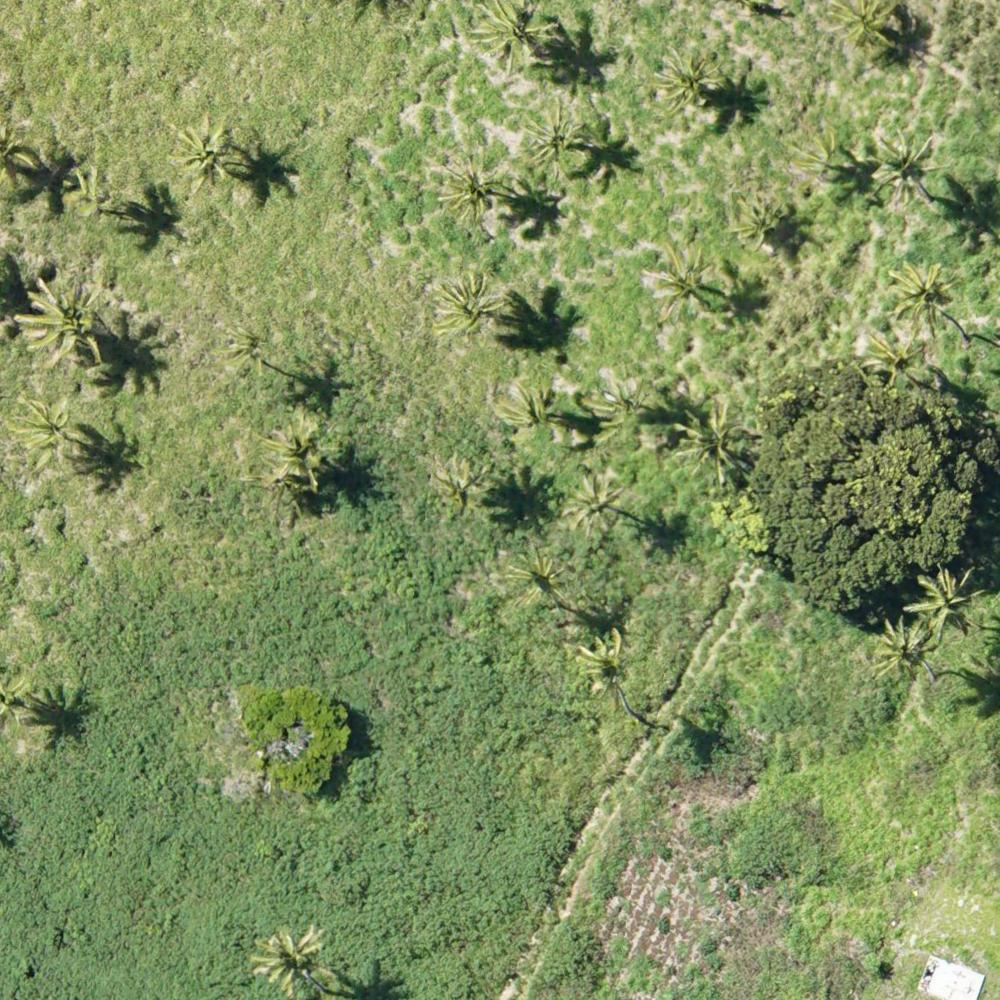Palm: (18, 274, 107, 371), (675, 397, 753, 481), (473, 1, 556, 74), (647, 242, 719, 325), (14, 397, 93, 471), (870, 128, 942, 202), (437, 150, 506, 227), (905, 565, 981, 634), (253, 922, 324, 994), (521, 97, 588, 173), (491, 380, 567, 447), (434, 269, 505, 338), (649, 46, 718, 115), (888, 259, 955, 328), (175, 116, 235, 190), (502, 549, 572, 611), (874, 616, 939, 682), (828, 2, 902, 59), (575, 628, 636, 697), (562, 473, 627, 536), (267, 418, 332, 478), (862, 327, 920, 385), (726, 193, 785, 250)
